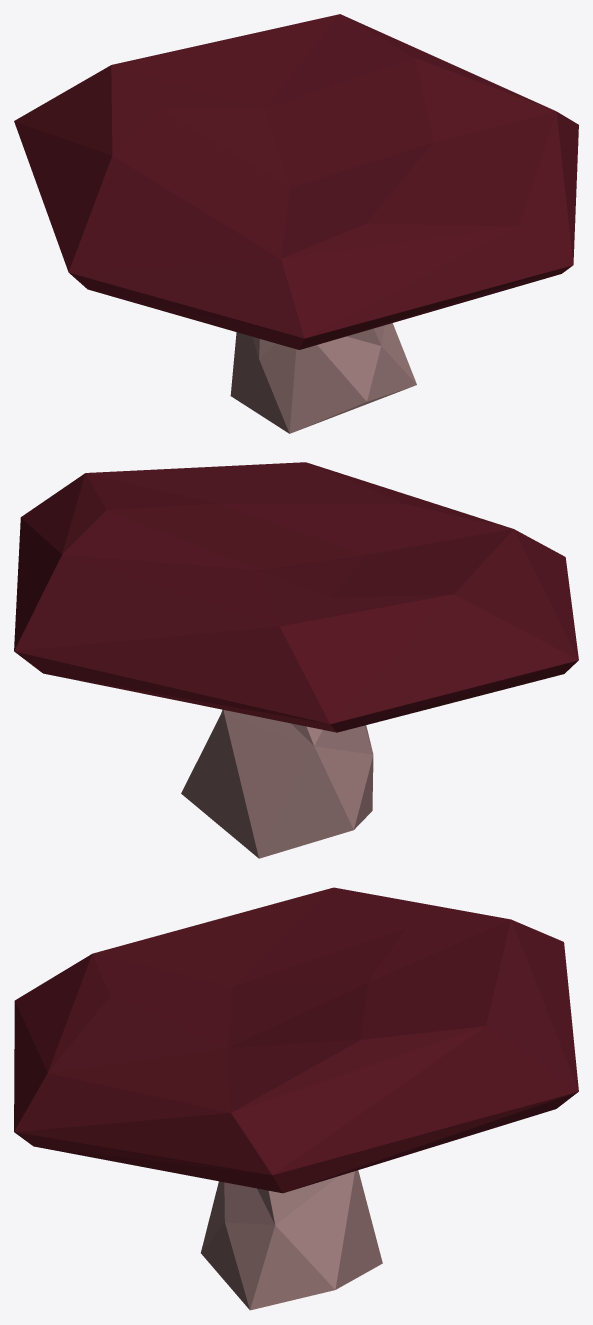
File: SENE_EDAMA-003.FBX
The picture shows the model from 3 angles, top to bottom: view 1: azimuth 30°, elevation 25°; view 2: azimuth 150°, elevation 25°; view 3: azimuth 270°, elevation 25°; orthographic projection. The views are drawn at different scales.
Visible parts, largest first — view 1: SENE_EDAMA-003; view 2: SENE_EDAMA-003; view 3: SENE_EDAMA-003.
Part boxes in pixels (x1,y1,x2,y2): SENE_EDAMA-003: (14, 14, 578, 433); SENE_EDAMA-003: (14, 462, 578, 858); SENE_EDAMA-003: (14, 887, 578, 1310).
Bounding box in the file's own units: 1103 × 587 × 971.
